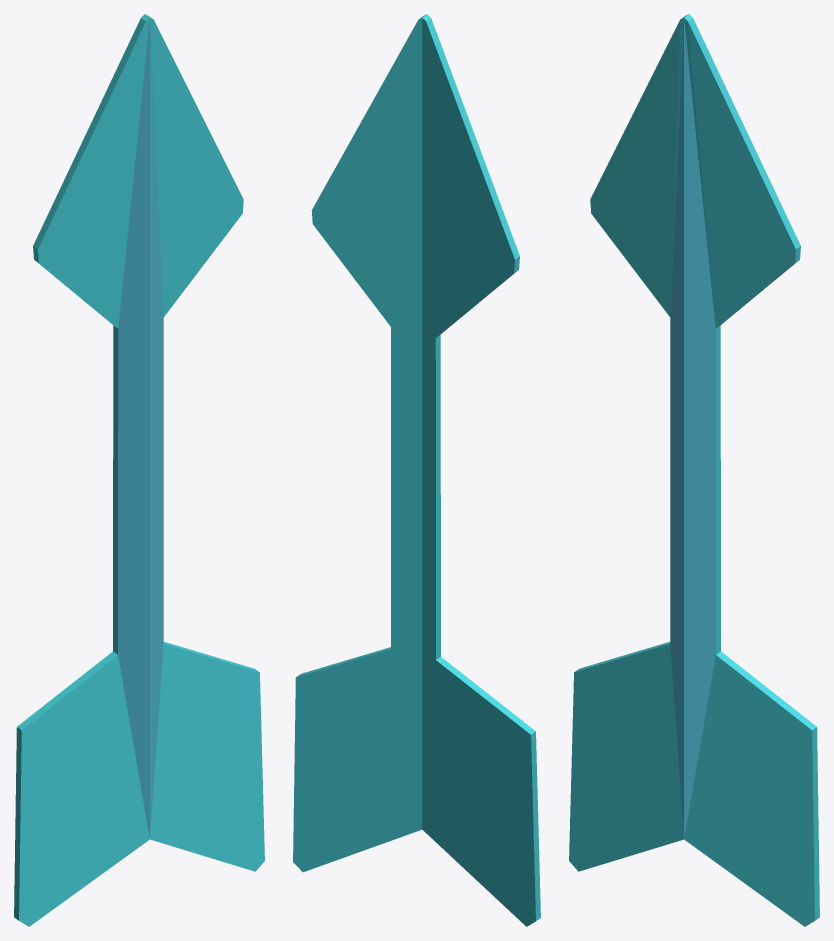
Rendered from Arrow.glb.
3 renders of one model, left to right at view 1: azimuth 30°, elevation 25°; view 2: azimuth 150°, elevation 25°; view 3: azimuth 330°, elevation 25°, orthographic.
Parts seen in each view (by area): view 1: Plane; view 2: Plane; view 3: Plane.
Boxes of the visible parts, box(x1,y1,x2,y2) form: Plane: box(14, 14, 264, 926); Plane: box(293, 14, 540, 926); Plane: box(569, 14, 819, 926).
Size of the model in its own units: 1.43 by 4.91 by 0.1406.
